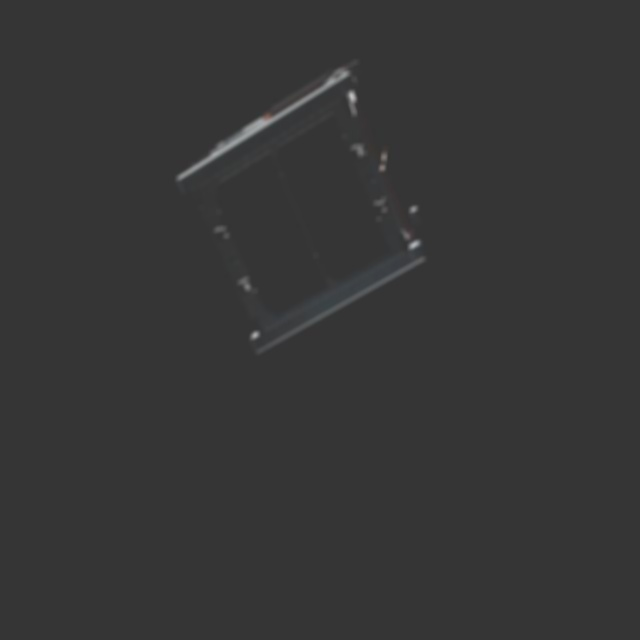satellite: (169, 62, 427, 354)
